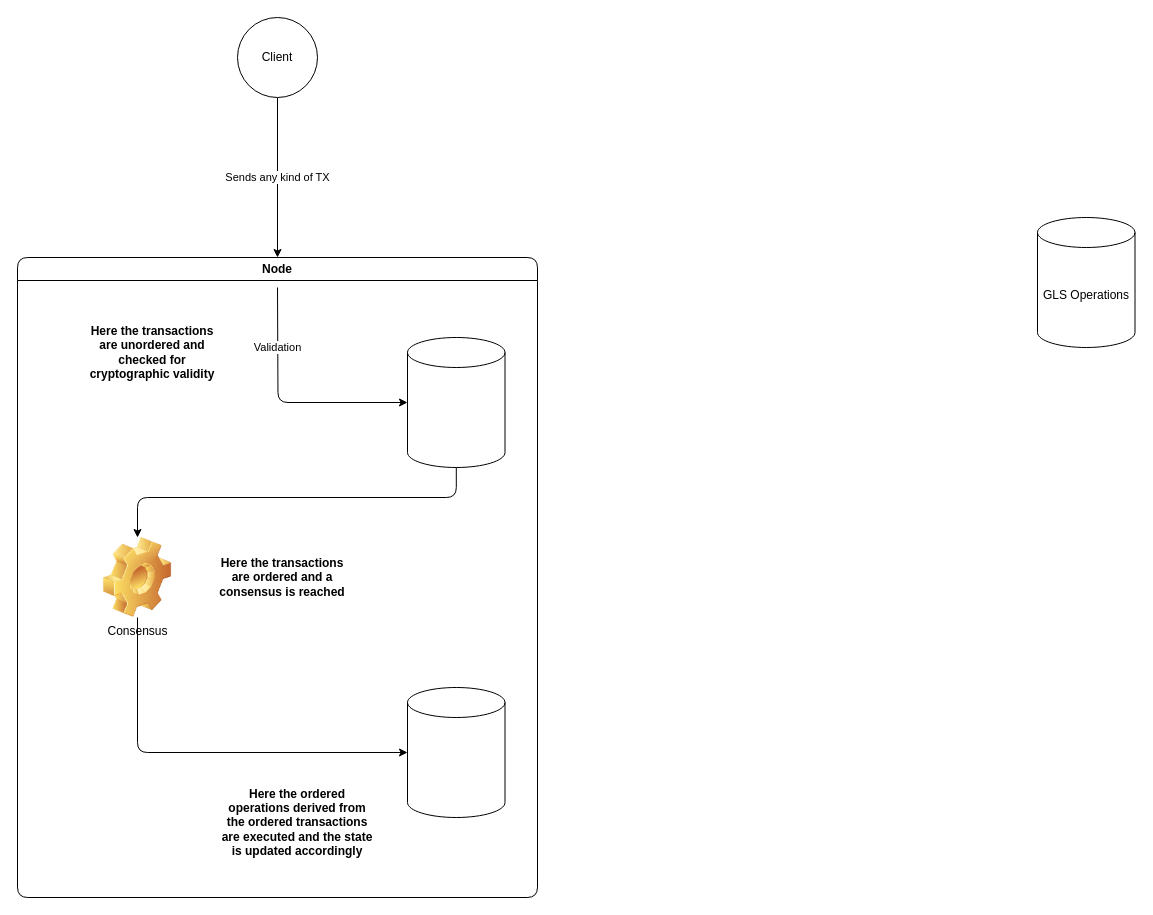
Some shapes in this 1153 by 915 pixel diagram are drawn without their labels. Each missing label, with the centre of its shape:
"GLS" belongs at [455,752].
"Tx Mempool" belongs at [455,402].
